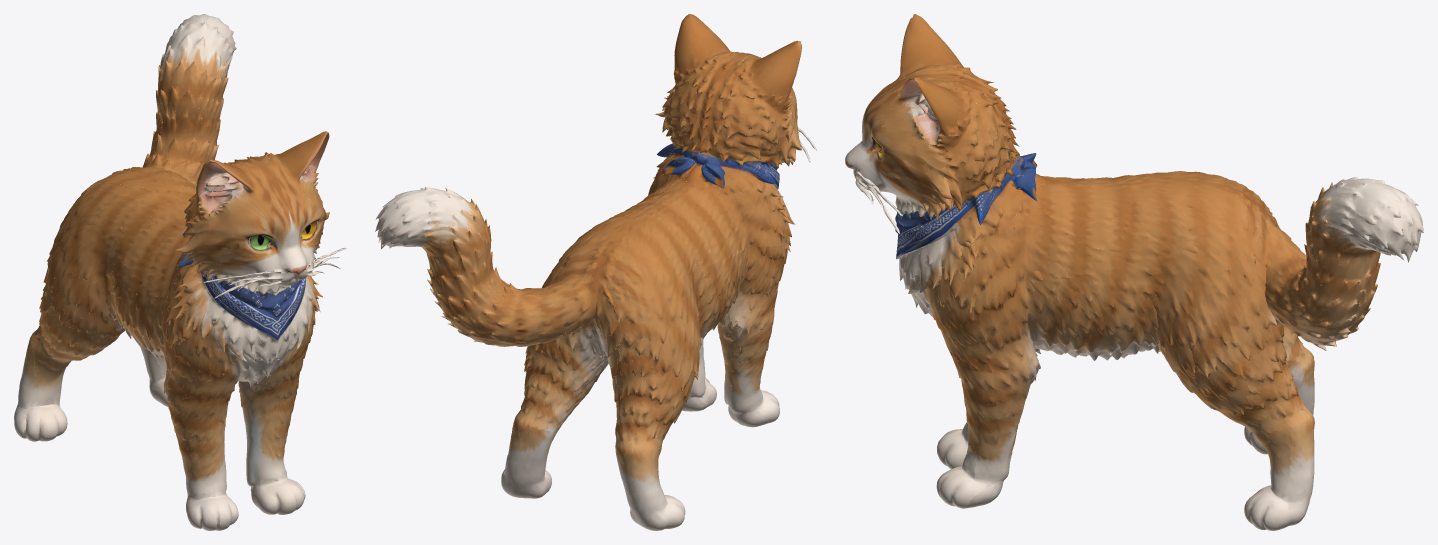
The model's file is cat_100000.glb.
3 views of the same model, side by side, from view 1: azimuth 30°, elevation 25°; view 2: azimuth 150°, elevation 25°; view 3: azimuth 270°, elevation 25° (orthographic). The views are drawn at different scales.
Visible parts, largest first — view 1: tripo_node_d4c6c128-de5c-43f0-8252-b24eece295db.001; view 2: tripo_node_d4c6c128-de5c-43f0-8252-b24eece295db.001; view 3: tripo_node_d4c6c128-de5c-43f0-8252-b24eece295db.001.
Boxes of the visible parts, bbox=[...] form: tripo_node_d4c6c128-de5c-43f0-8252-b24eece295db.001: bbox=[14, 14, 346, 530]; tripo_node_d4c6c128-de5c-43f0-8252-b24eece295db.001: bbox=[375, 14, 816, 530]; tripo_node_d4c6c128-de5c-43f0-8252-b24eece295db.001: bbox=[845, 14, 1423, 530].
Bounding box in the file's own units: 0.5987 × 0.8356 × 0.999.
1 material, 1 textured.
